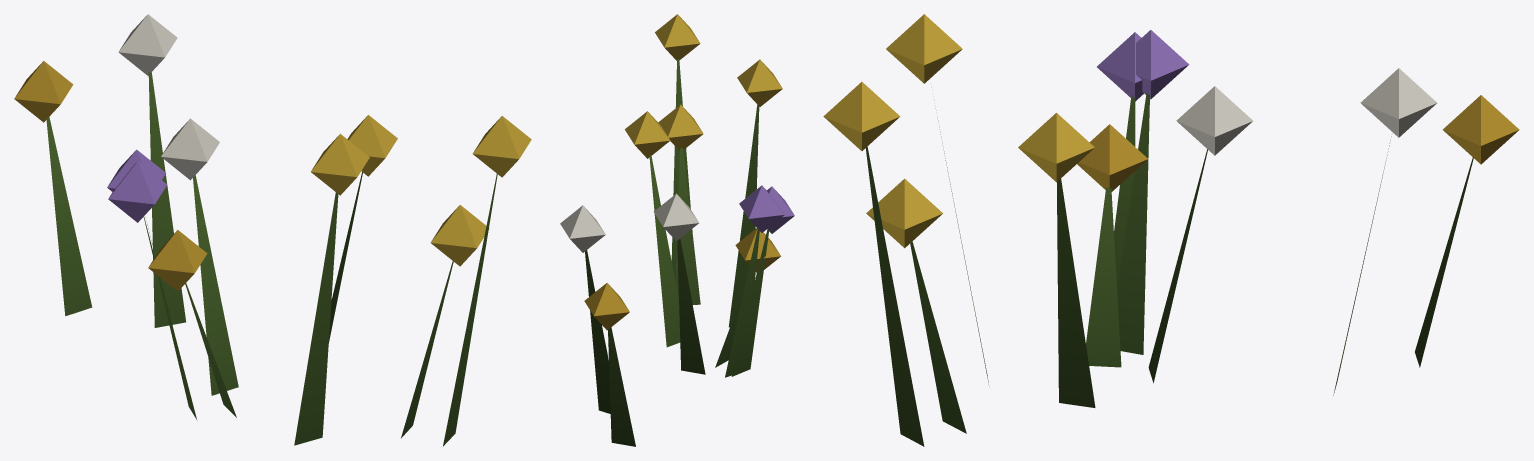
The model's file is env_wildflowers.glb.
The picture shows the model from 3 angles, left to right: view 1: azimuth 30°, elevation 25°; view 2: azimuth 150°, elevation 25°; view 3: azimuth 270°, elevation 25°; orthographic projection. The views are drawn at different scales.
Visible parts, largest first — view 1: env_wildflowers; view 2: env_wildflowers; view 3: env_wildflowers.
Boxes of the visible parts, bbox=[...] form: env_wildflowers: bbox=[14, 14, 531, 446]; env_wildflowers: bbox=[560, 14, 794, 446]; env_wildflowers: bbox=[823, 14, 1519, 446].
Bounding box in the file's own units: 0.6118 × 0.6445 × 1.08.
